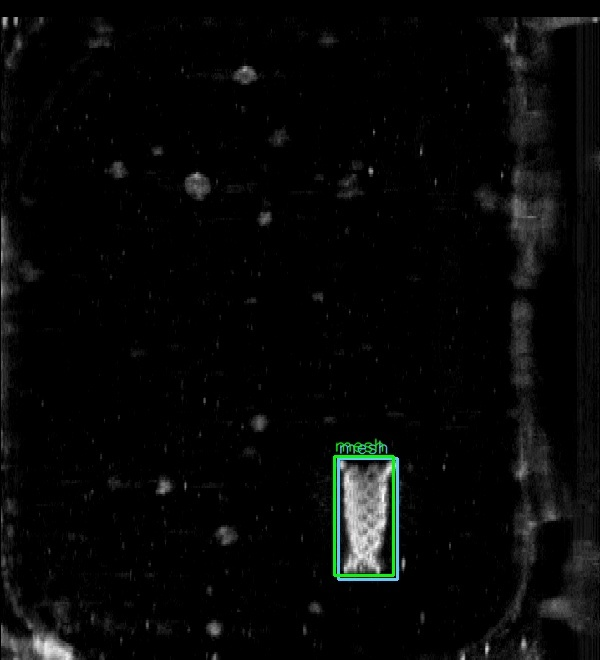mesh: (338, 458, 397, 579)
